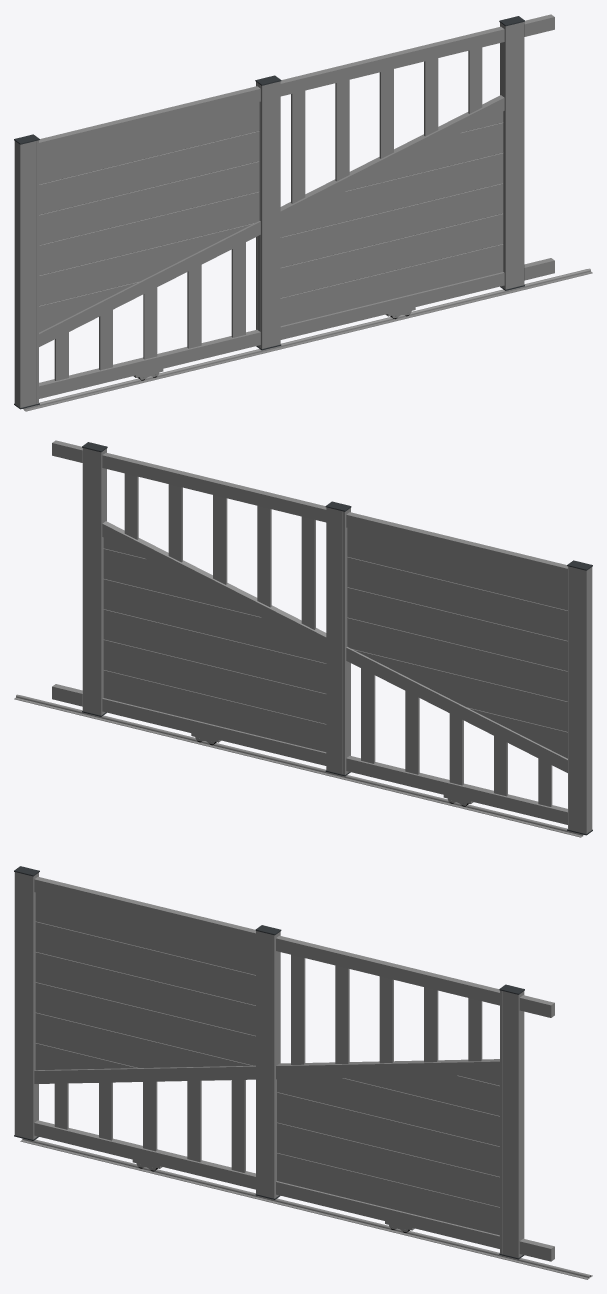
3 views of the same model, one above another, from view 1: azimuth 30°, elevation 25°; view 2: azimuth 150°, elevation 25°; view 3: azimuth 330°, elevation 25° (orthographic).
Visible parts, largest first — view 1: Rectangle072, Rectangle071, Line046, Line056, Line057, Line048, Line049, Line050, Shape107412643, Line047, Line058, Line055 (+16 smaller); view 2: Rectangle072, Rectangle071, Line046, Line056, Line057, Line048, Line049, Line050, Shape107412643, Line047, Line058, Line055 (+16 smaller); view 3: Rectangle072, Rectangle071, Line057, Line056, Line050, Line048, Line049, Line046, Line047, Shape107413021, Line058, Line055 (+16 smaller).
Part boxes in pixels (bbox=[...]): Rectangle072: bbox=[39, 14, 554, 155]; Rectangle071: bbox=[39, 258, 554, 398]; Line046: bbox=[39, 95, 504, 346]; Line056: bbox=[280, 183, 503, 267]; Line057: bbox=[280, 213, 503, 297]; Line048: bbox=[39, 131, 259, 214]; Line049: bbox=[39, 161, 259, 245]; Line050: bbox=[39, 191, 259, 275]; Shape107412643: bbox=[14, 140, 38, 407]; Line047: bbox=[39, 102, 259, 184]; Line058: bbox=[280, 244, 503, 325]; Line055: bbox=[280, 153, 503, 237]; Rectangle072: bbox=[52, 440, 567, 581]; Rectangle071: bbox=[52, 684, 567, 824]; Line046: bbox=[102, 521, 567, 772]; Line056: bbox=[103, 609, 326, 693]; Line057: bbox=[103, 639, 326, 723]; Line048: bbox=[347, 557, 567, 640]; Line049: bbox=[347, 587, 567, 671]; Line050: bbox=[347, 617, 567, 701]; Shape107412643: bbox=[568, 566, 592, 833]; Line047: bbox=[347, 528, 567, 610]; Line058: bbox=[103, 670, 326, 751]; Line055: bbox=[103, 579, 326, 663]; Rectangle072: bbox=[34, 876, 554, 1017]; Rectangle071: bbox=[34, 1120, 554, 1261]; Line057: bbox=[277, 1122, 499, 1206]; Line056: bbox=[277, 1092, 499, 1176]; Line050: bbox=[35, 982, 255, 1065]; Line048: bbox=[35, 921, 255, 1005]; Line049: bbox=[35, 952, 255, 1035]; Line046: bbox=[34, 1059, 499, 1083]; Line047: bbox=[35, 892, 255, 974]; Shape107413021: bbox=[500, 990, 524, 1257]; Line058: bbox=[277, 1153, 499, 1235]; Line055: bbox=[277, 1078, 499, 1146].
Size of the model in its own units: 3638 by 1636 by 70.
Materials: 6 (2 with a texture image).
